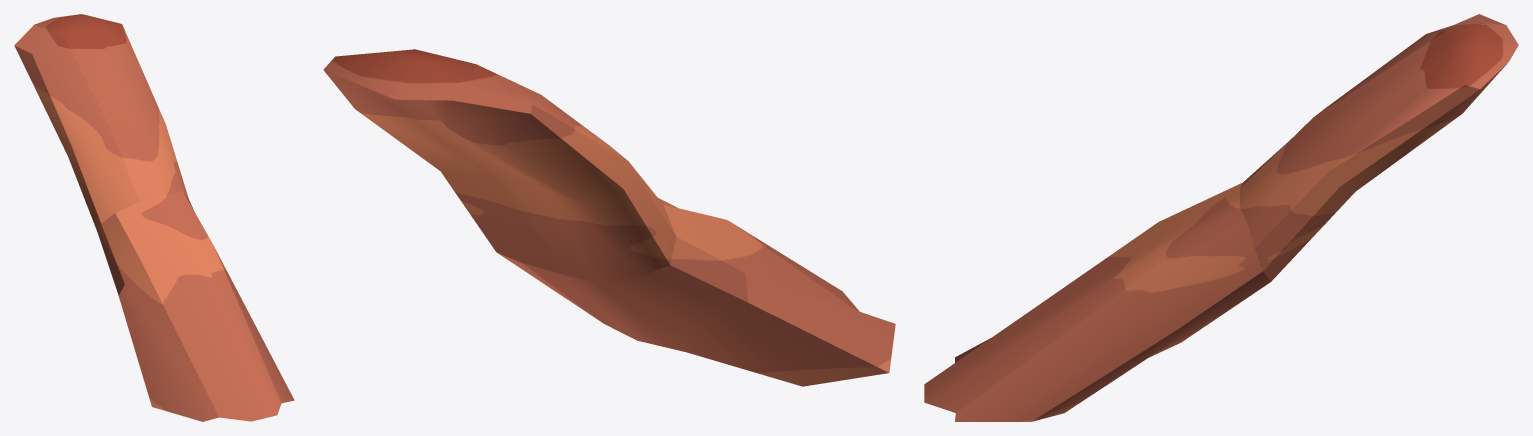
File: RampBridge02.fbx
The picture shows the model from 3 angles, left to right: view 1: azimuth 30°, elevation 25°; view 2: azimuth 150°, elevation 25°; view 3: azimuth 270°, elevation 25°; orthographic projection. The views are drawn at different scales.
Visible parts, largest first — view 1: RampBridge02; view 2: RampBridge02; view 3: RampBridge02.
Part boxes in pixels (x1,y1,x2,y2): RampBridge02: (14, 14, 294, 421); RampBridge02: (323, 49, 895, 386); RampBridge02: (924, 14, 1518, 421).
Bounding box in the file's own units: 626 × 1253 × 1836.
